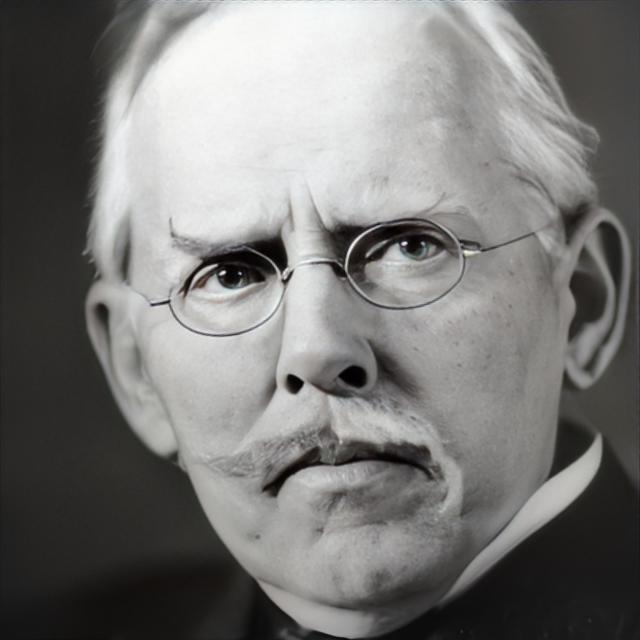anger: (128, 50, 561, 623)
